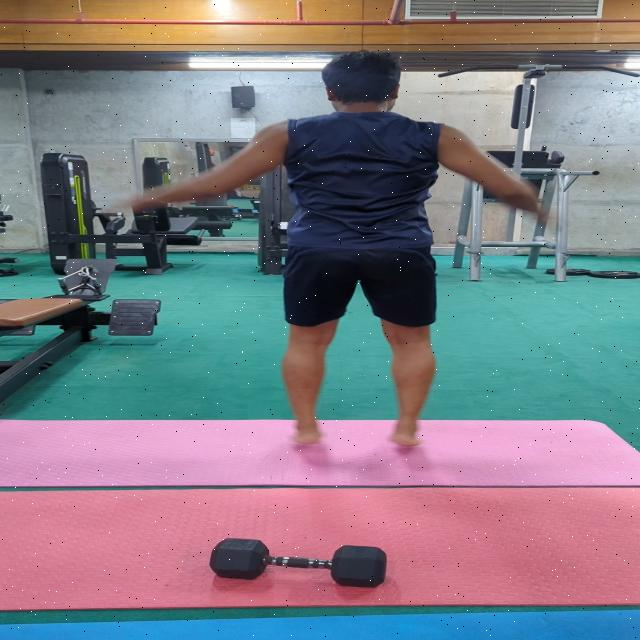Normal_JumpingJacks: (99, 45, 563, 458)
